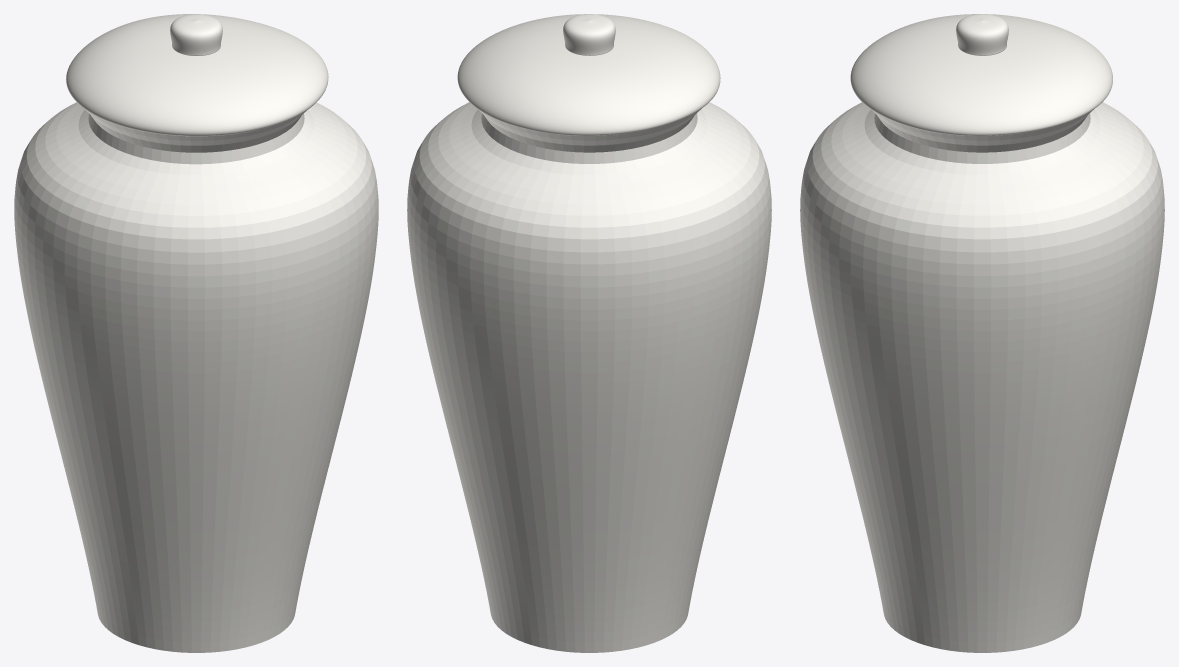
Rendered from Not.glb.
The picture shows the model from 3 angles, left to right: view 1: azimuth 30°, elevation 25°; view 2: azimuth 150°, elevation 25°; view 3: azimuth 270°, elevation 25°; orthographic projection.
Parts seen in each view (by area): view 1: Lathe (×2), Sphere; view 2: Lathe (×2), Sphere; view 3: Lathe (×2), Sphere.
Boxes of the visible parts, <box> form: Lathe (×2): <box>14,14,378,652</box>; Sphere: <box>66,14,328,136</box>; Lathe (×2): <box>407,14,771,652</box>; Sphere: <box>457,14,720,135</box>; Lathe (×2): <box>800,14,1164,652</box>; Sphere: <box>850,14,1112,135</box>.
Bounding box in the file's own units: 0.6187 × 1.11 × 0.6194.
5 materials, 3 textured.
